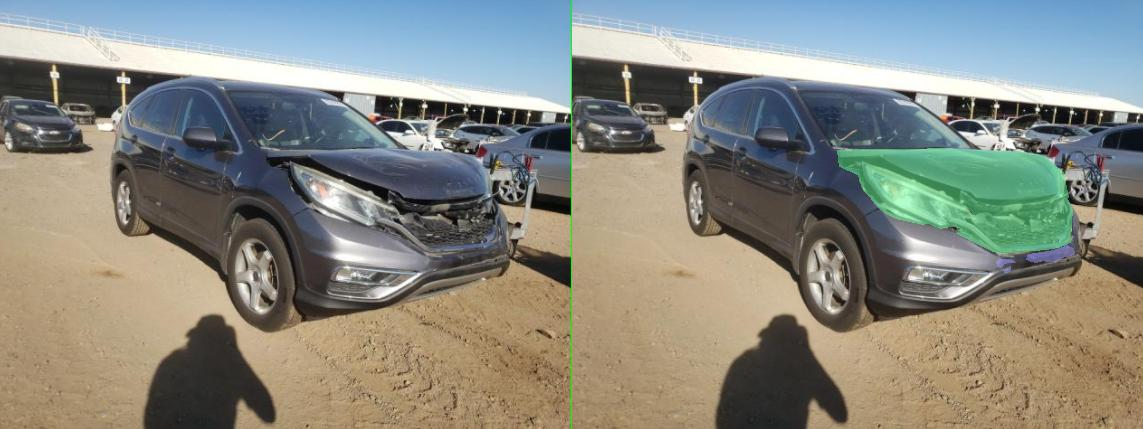Broken part: (530, 148, 993, 207), (769, 189, 1001, 253), (581, 161, 799, 228), (573, 172, 713, 224)
Scratch: (909, 245, 1005, 262), (875, 185, 971, 199), (849, 259, 887, 267), (863, 266, 877, 272)
